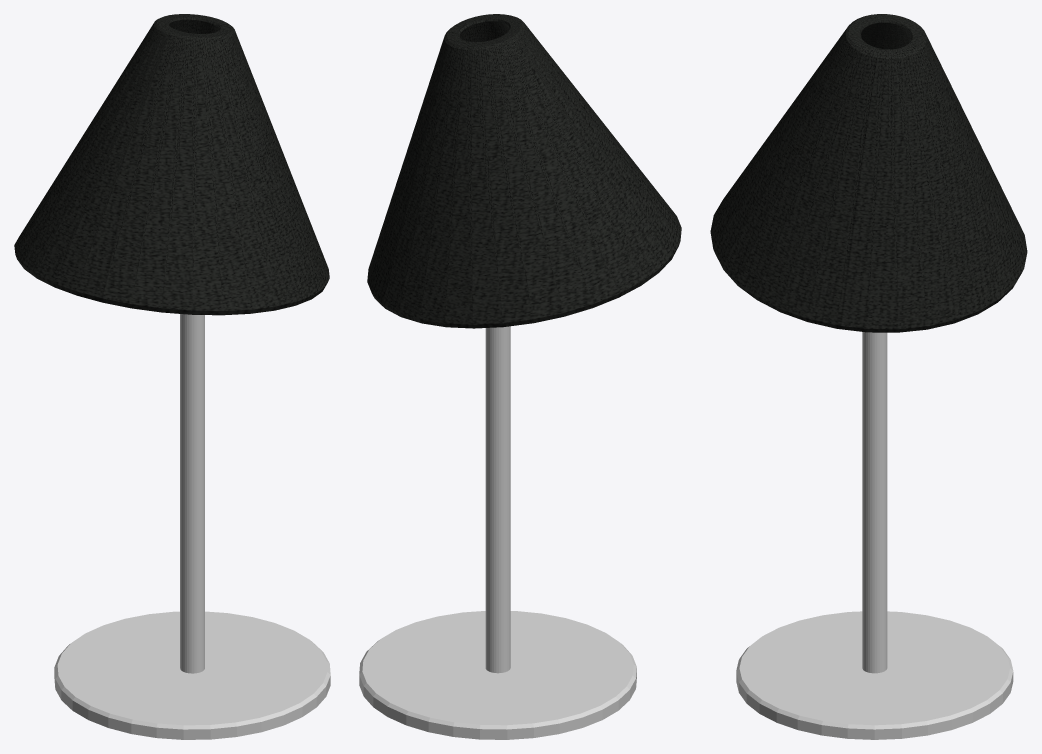
Rendered from lamp.glb.
3 renders of one model, left to right at view 1: azimuth 30°, elevation 25°; view 2: azimuth 150°, elevation 25°; view 3: azimuth 270°, elevation 25°, orthographic.
Visible parts, largest first — view 1: Lamp, Lamp_Stand; view 2: Lamp, Lamp_Stand; view 3: Lamp, Lamp_Stand.
Boxes of the visible parts, bbox=[...] form: Lamp: bbox=[14, 14, 329, 315]; Lamp_Stand: bbox=[54, 314, 330, 739]; Lamp: bbox=[367, 14, 681, 328]; Lamp_Stand: bbox=[359, 326, 636, 739]; Lamp: bbox=[710, 14, 1027, 332]; Lamp_Stand: bbox=[736, 332, 1013, 739].
Size of the model in its own units: 0.4541 by 1.02 by 0.4458.
Materials: 4 (1 with a texture image).
